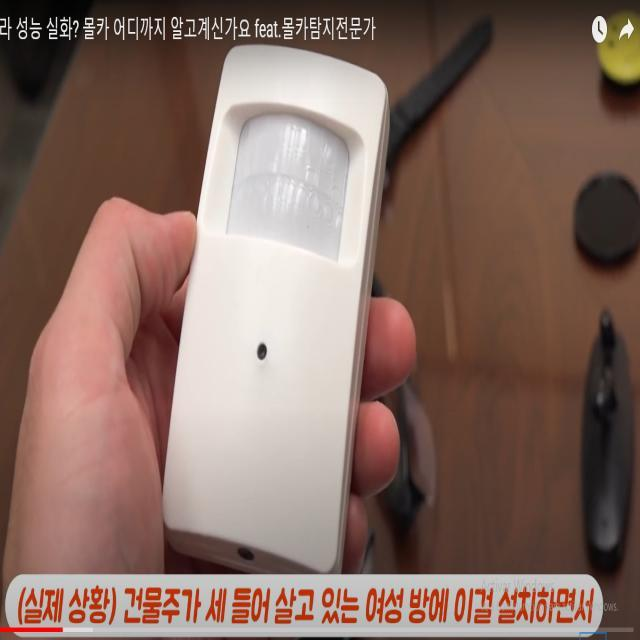hidden camera: (258, 340, 269, 362)
